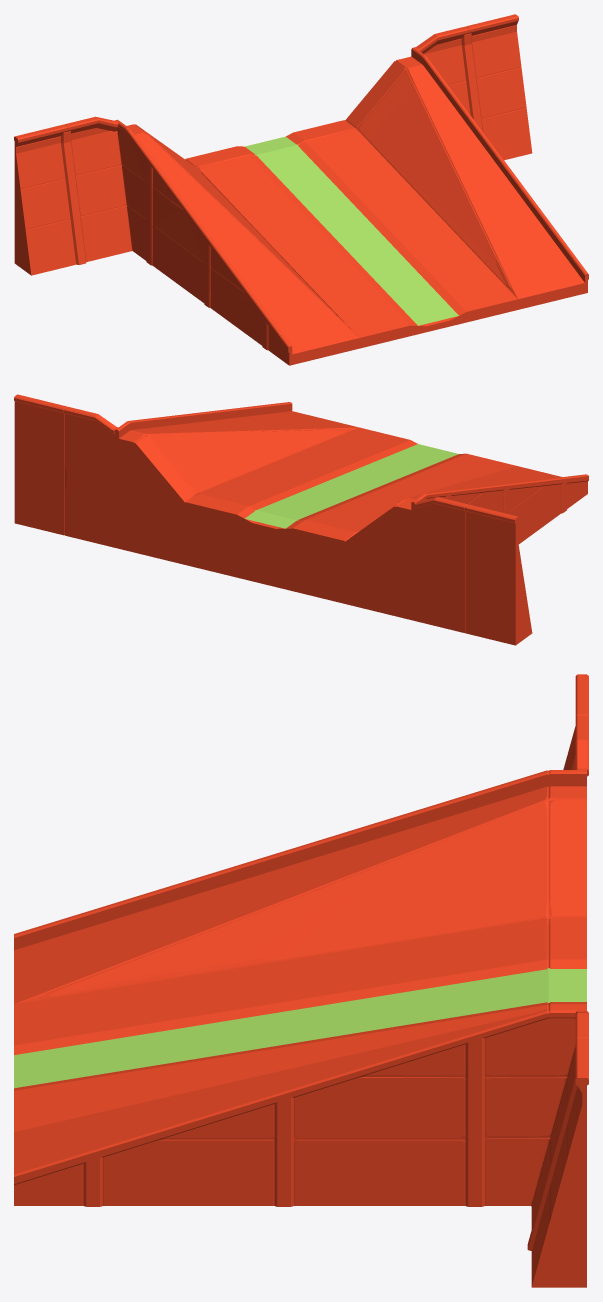
File: SM_Wall_Estuary_City.fbx
The picture shows the model from 3 angles, top to bottom: view 1: azimuth 30°, elevation 25°; view 2: azimuth 150°, elevation 25°; view 3: azimuth 270°, elevation 25°; orthographic projection. The views are drawn at different scales.
Parts seen in each view (by area): view 1: SM_Wall_Estuary_City; view 2: SM_Wall_Estuary_City; view 3: SM_Wall_Estuary_City.
Boxes of the visible parts, x1,y1,x2,y2 form: SM_Wall_Estuary_City: (14,14,588,365); SM_Wall_Estuary_City: (14,394,588,645); SM_Wall_Estuary_City: (14,674,588,1287).
Bounding box in the file's own units: 50 × 12.1 × 30.11.
